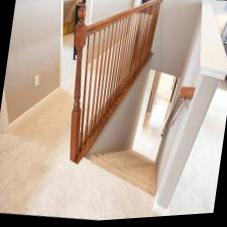Animal: (76, 116, 166, 208)
